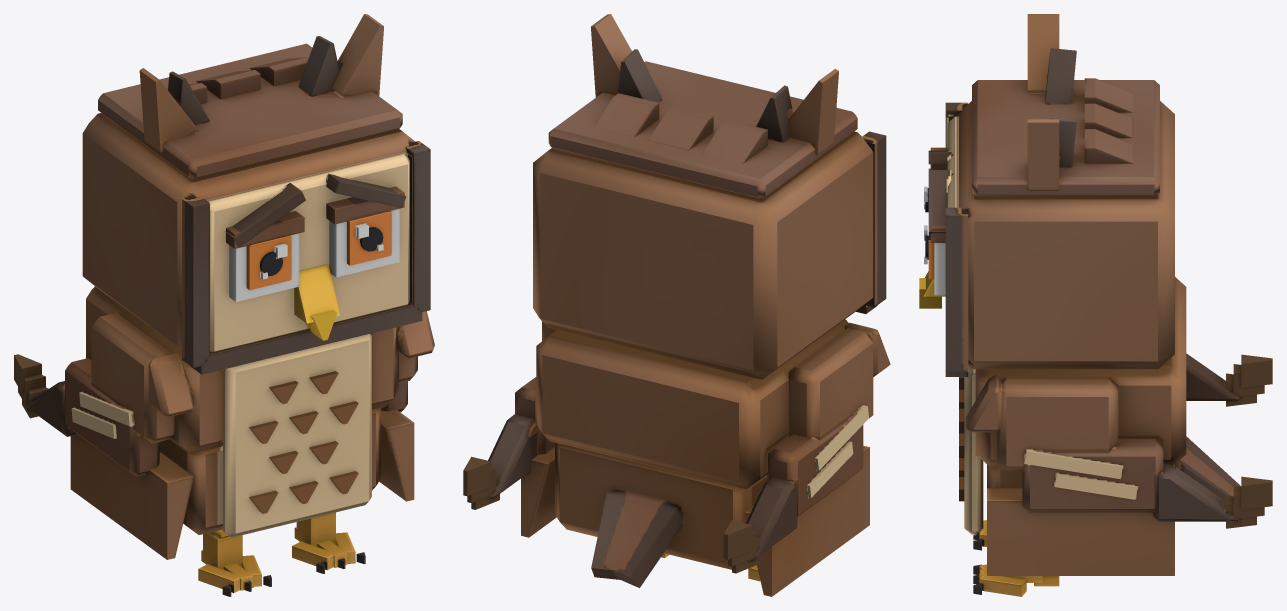
Rendered from HibouGrincheux_Rig.fbx.
The picture shows the model from 3 angles, left to right: view 1: azimuth 30°, elevation 25°; view 2: azimuth 150°, elevation 25°; view 3: azimuth 270°, elevation 25°; orthographic projection. The views are drawn at different scales.
Visible parts, largest first — view 1: Head, Body, WingR, LegR, LegL, WingL; view 2: Head, Body, WingR, Tail, WingL; view 3: Head, Body, WingL, WingR, Tail, LegL.
Part boxes in pixels (bbox=[...]): Head: bbox=[82, 14, 430, 374]; Body: bbox=[70, 286, 414, 559]; WingR: bbox=[14, 312, 194, 476]; LegR: bbox=[198, 529, 271, 596]; LegL: bbox=[292, 512, 365, 573]; WingL: bbox=[381, 311, 434, 412]; Head: bbox=[533, 14, 886, 379]; Body: bbox=[521, 319, 869, 596]; WingR: bbox=[723, 322, 890, 573]; Tail: bbox=[591, 490, 683, 587]; WingL: bbox=[463, 321, 556, 509]; Head: bbox=[919, 14, 1174, 376]; Body: bbox=[959, 277, 1186, 575]; WingL: bbox=[966, 374, 1272, 528]; WingR: bbox=[1186, 353, 1272, 406]; Tail: bbox=[1175, 436, 1241, 501]; LegL: bbox=[973, 564, 1059, 596].
Size of the model in its own units: 3.51 by 6 by 3.88.
1 material, 1 textured.
